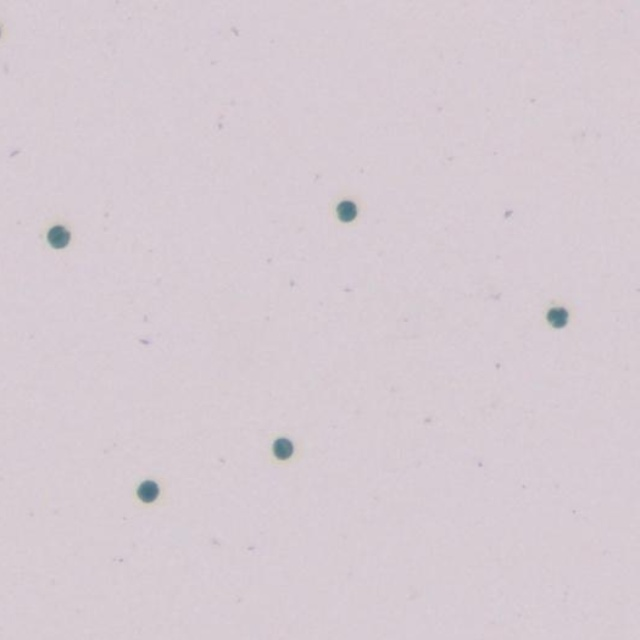non_viable: (546, 307, 569, 330), (48, 226, 69, 247), (335, 201, 357, 221), (137, 482, 158, 501), (274, 440, 293, 457)
